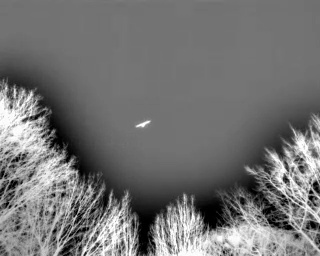BIRD: (132, 117, 153, 133)
